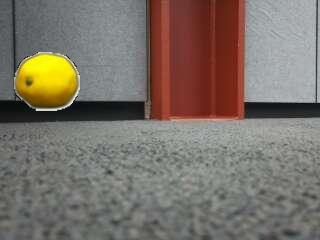lemon: (16, 54, 79, 108)
